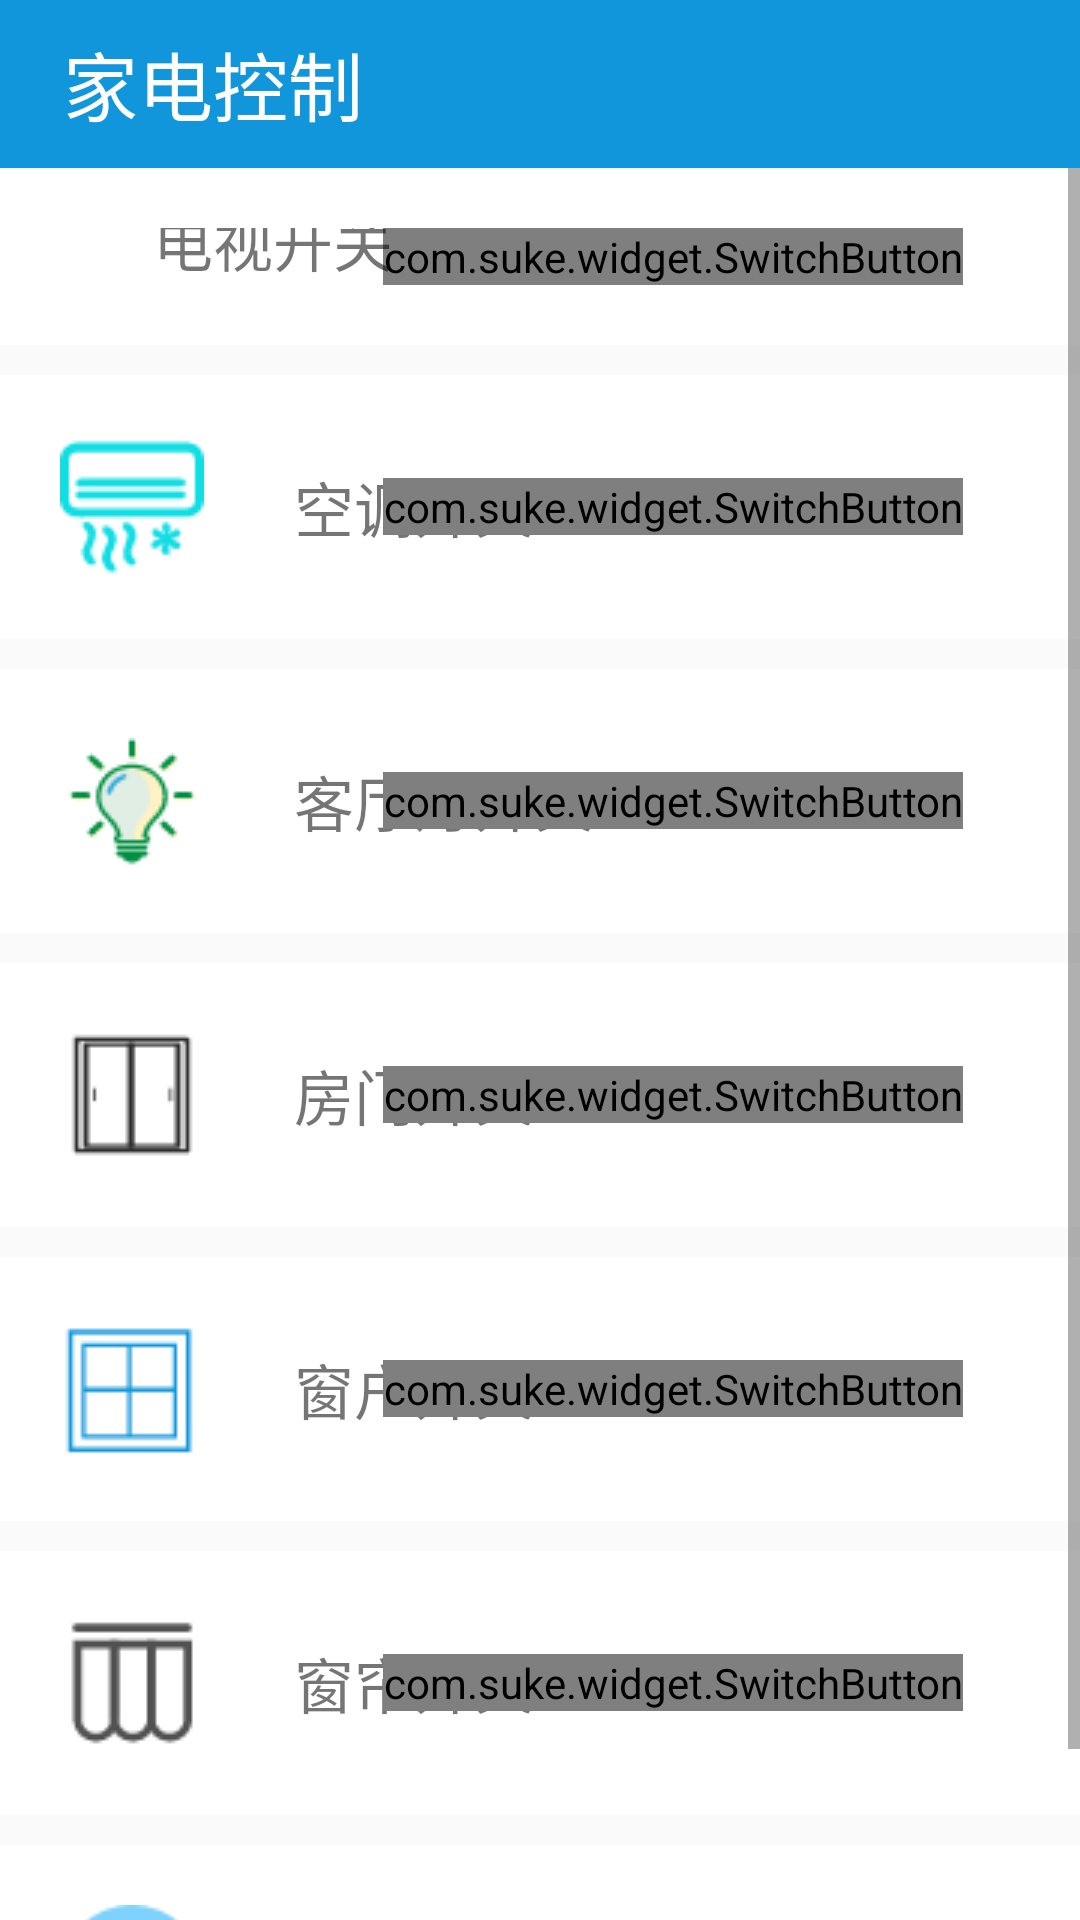

Icons on this 1080px×1920px Android screen, each with the point to tap as (x,y):
air: (132,507)
curtain: (132,1683)
door: (132,1095)
lamp: (132,801)
window: (129,1390)
